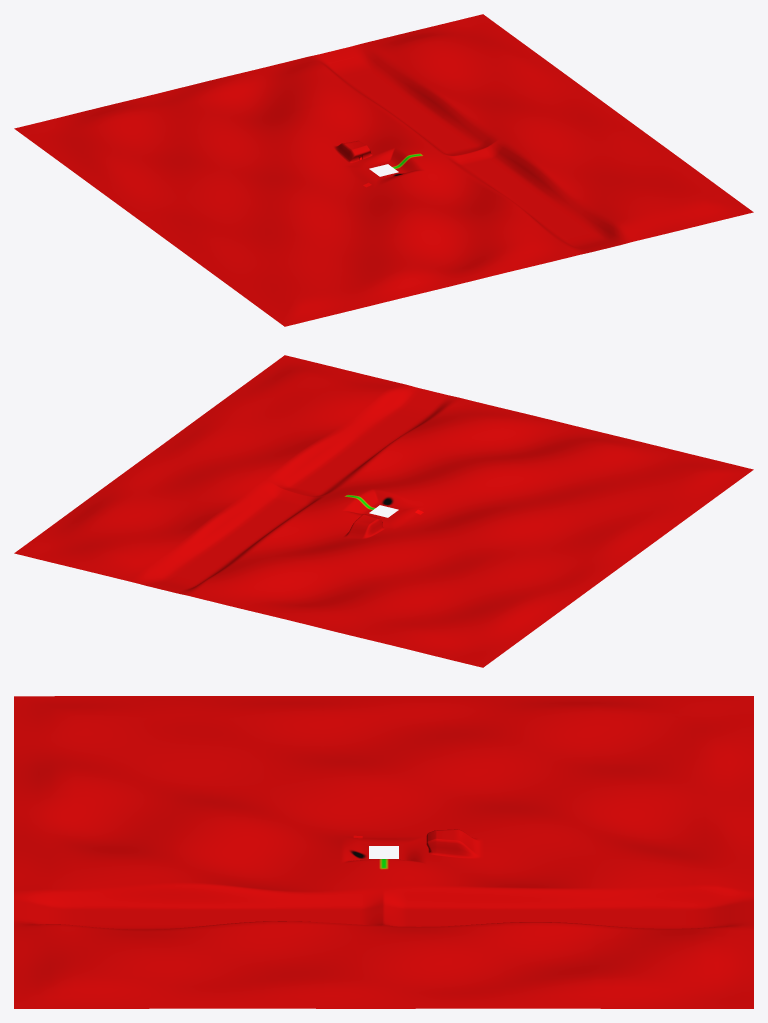
Rendered from placeholder_terrain.glb.
3 views of the same model, one above another, from view 1: azimuth 30°, elevation 25°; view 2: azimuth 150°, elevation 25°; view 3: azimuth 270°, elevation 25° (orthographic). The views are drawn at different scales.
Parts seen in each view (by area): view 1: placeholder_terrain; view 2: placeholder_terrain; view 3: placeholder_terrain.
Boxes of the visible parts, x1,y1,x2,y2 form: placeholder_terrain: [14, 14, 753, 326]; placeholder_terrain: [14, 355, 753, 667]; placeholder_terrain: [14, 696, 753, 1008].
Size of the model in its own units: 488 by 16.76 by 488.
